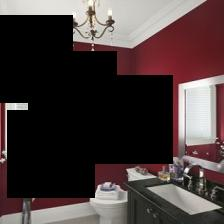red: (1, 1, 223, 210)
